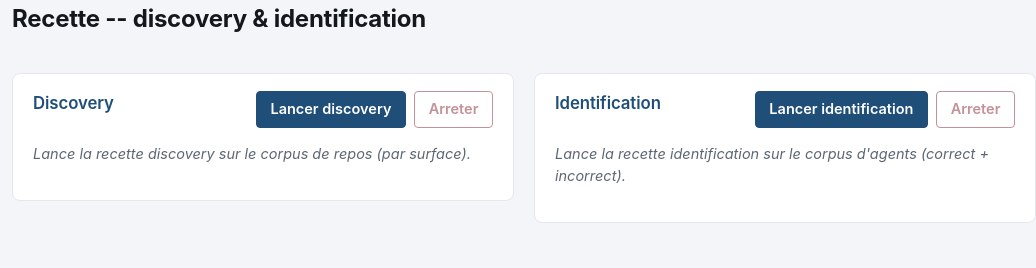
Test: RecettePage › surfaces a launch failure as an alert without crashing
Click the button "Lancer discovery" at coordinates (331, 109), box 256,91 -> 406,128
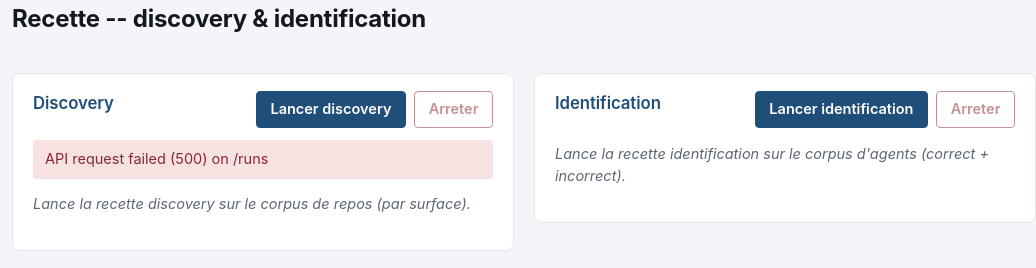
Now the message shows "API request failed (500)", box 45,150 -> 268,167
